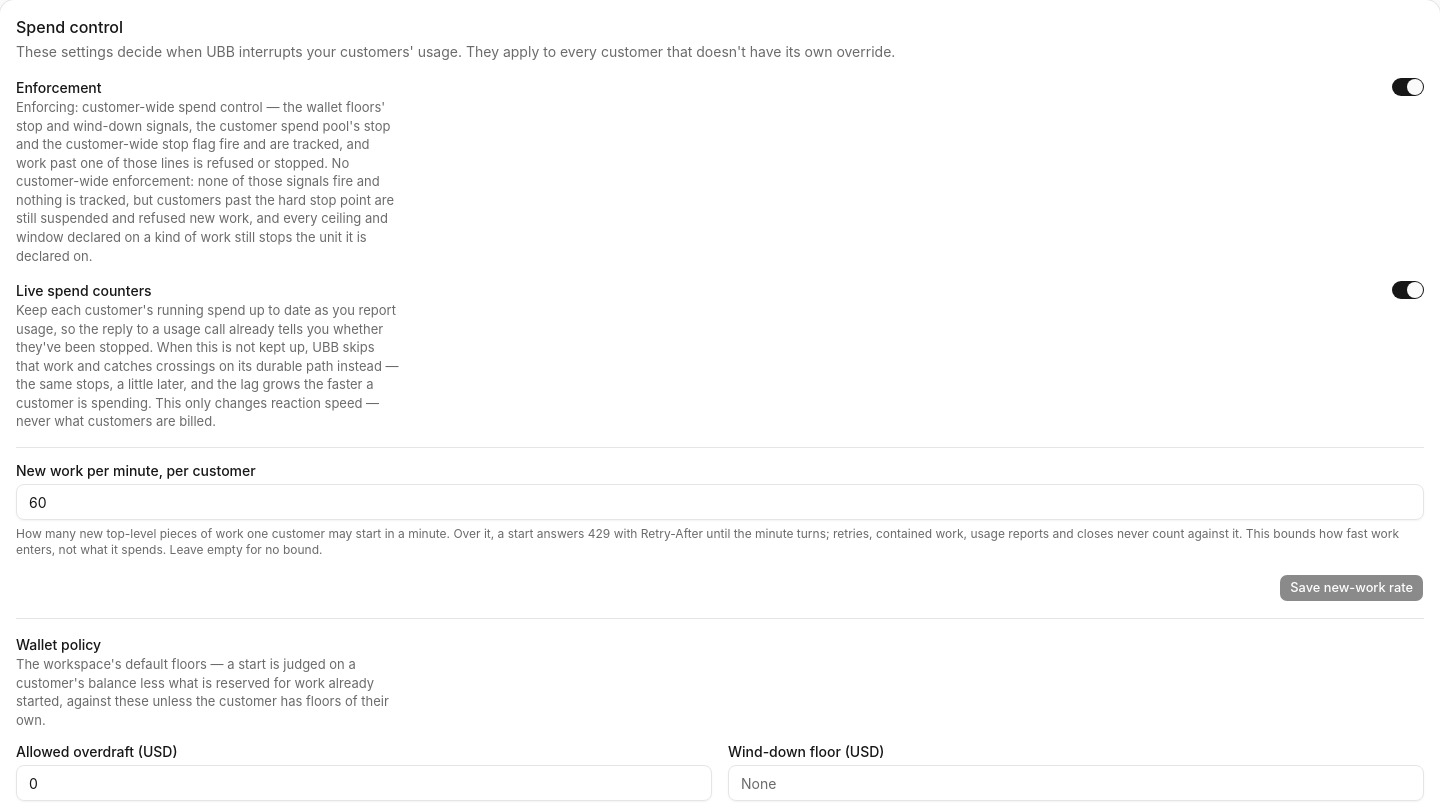
Test: SpendControlCard › refuses zero before the request, with the field's message
Replace the text in the number field labelled "New work per minute, per customer" with "0" at {"x": 720, "y": 502}, box [16,484,1424,520]
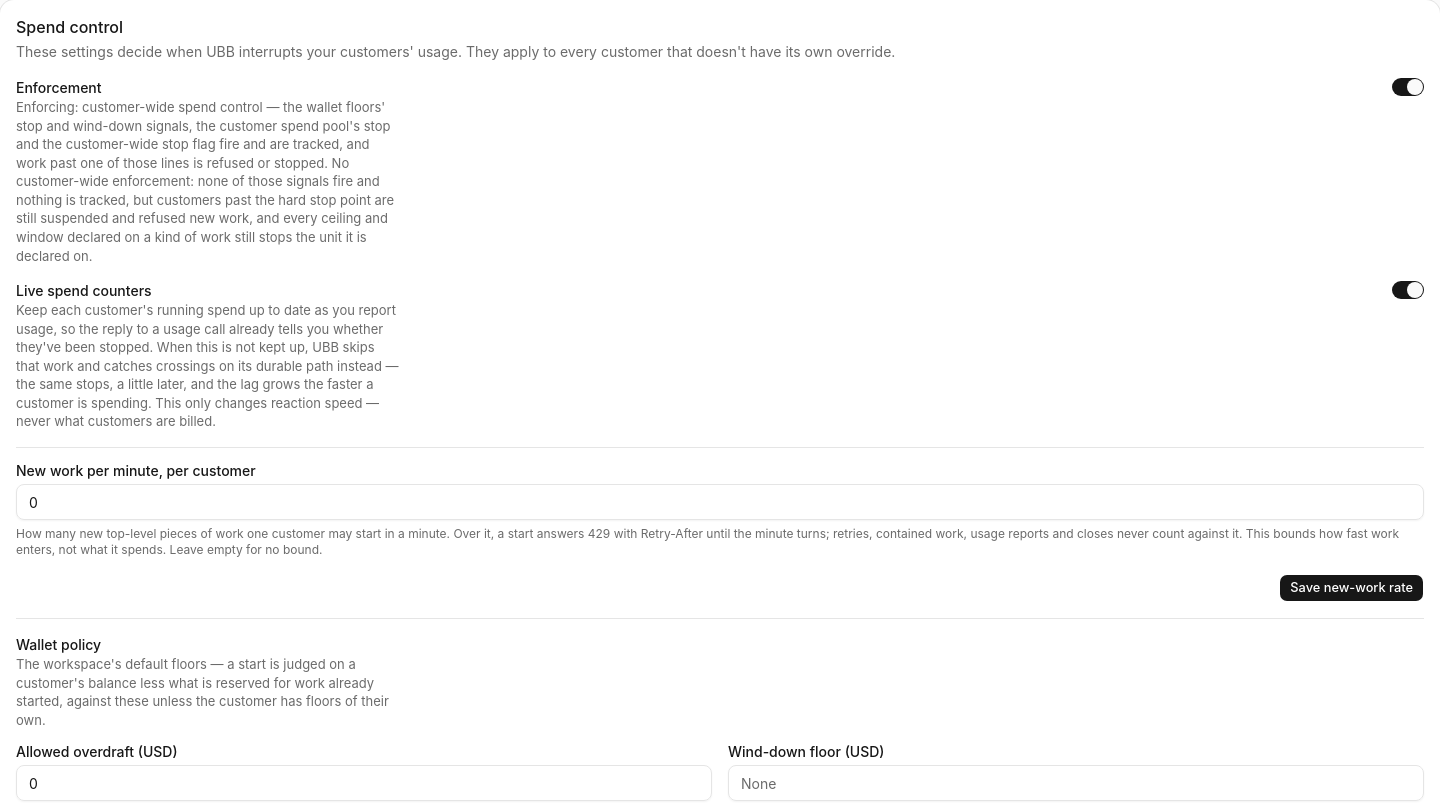
Click the button "Save new-work rate" at {"x": 1352, "y": 588}, box [1279,574,1424,602]
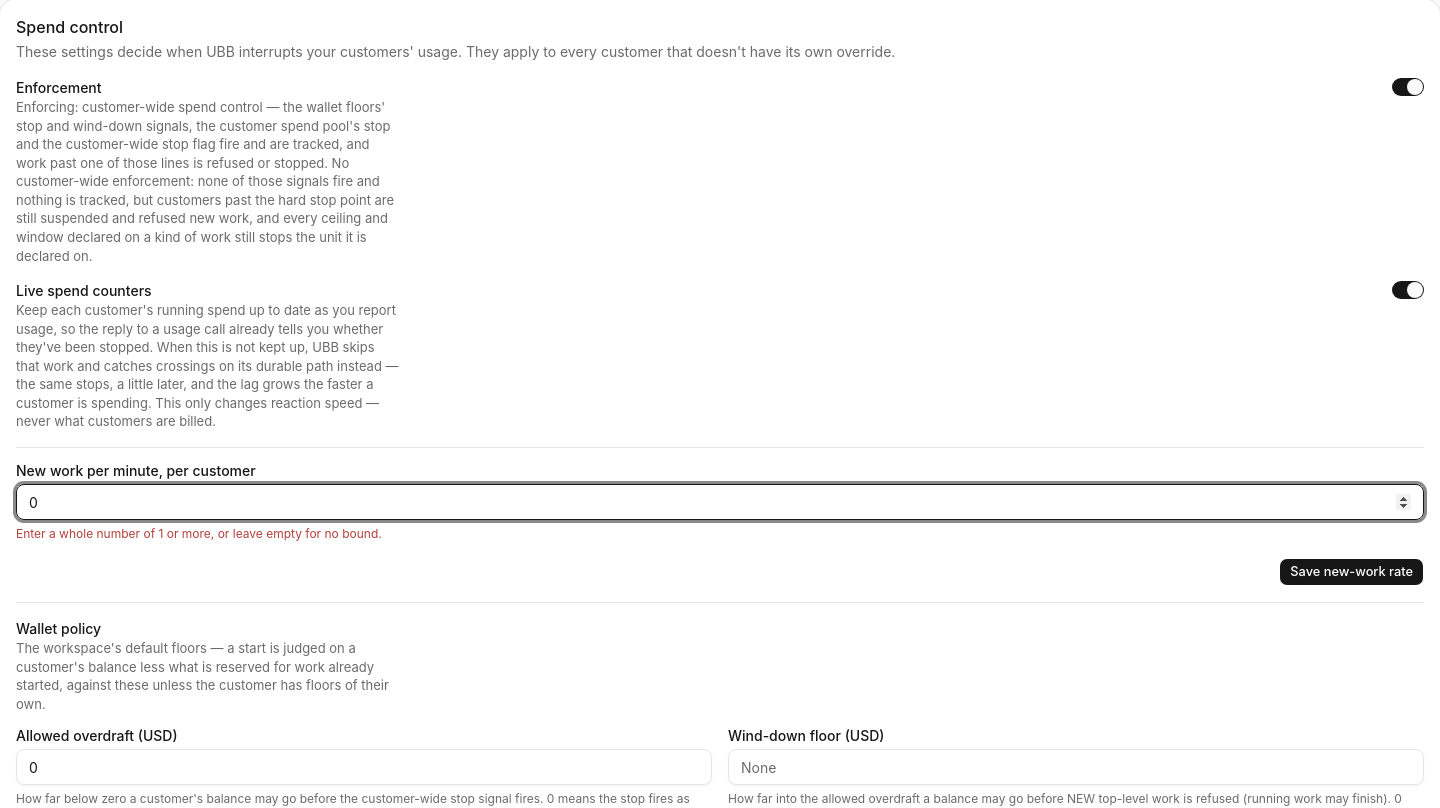
Expected: the text "Enter a whole number of 1 or more, or leave empty for no bound." is shown, [16,526,382,541]
